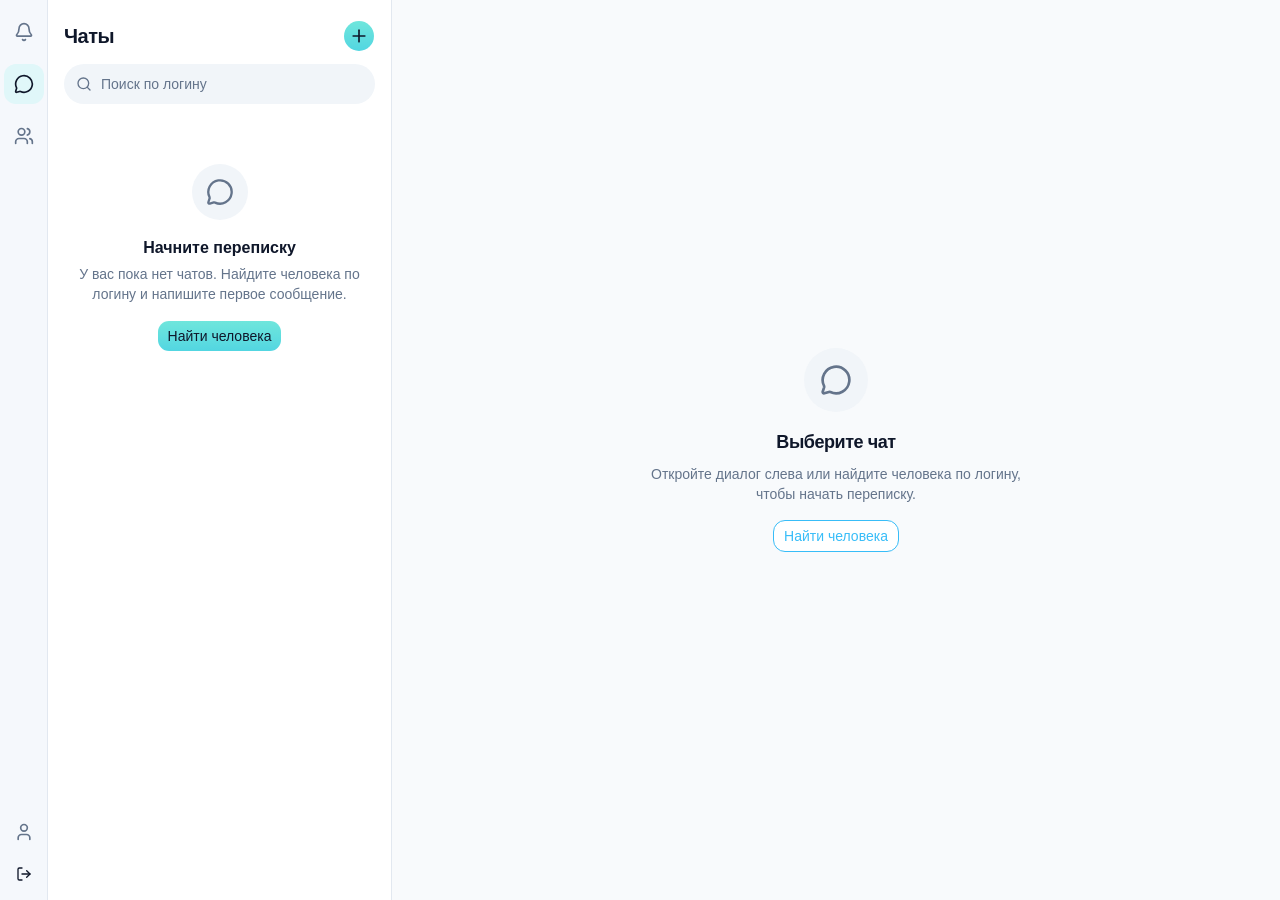
ChatListPage › opens a chat from POST even when refreshing the list fails
This screenshot has width=1280, height=900.
Check: the text "Начните переписку" is shown, box [143,239,296,256]
In the search field labelled "Поиск по логину": point(220, 84) [64,64,375,104], type "char"
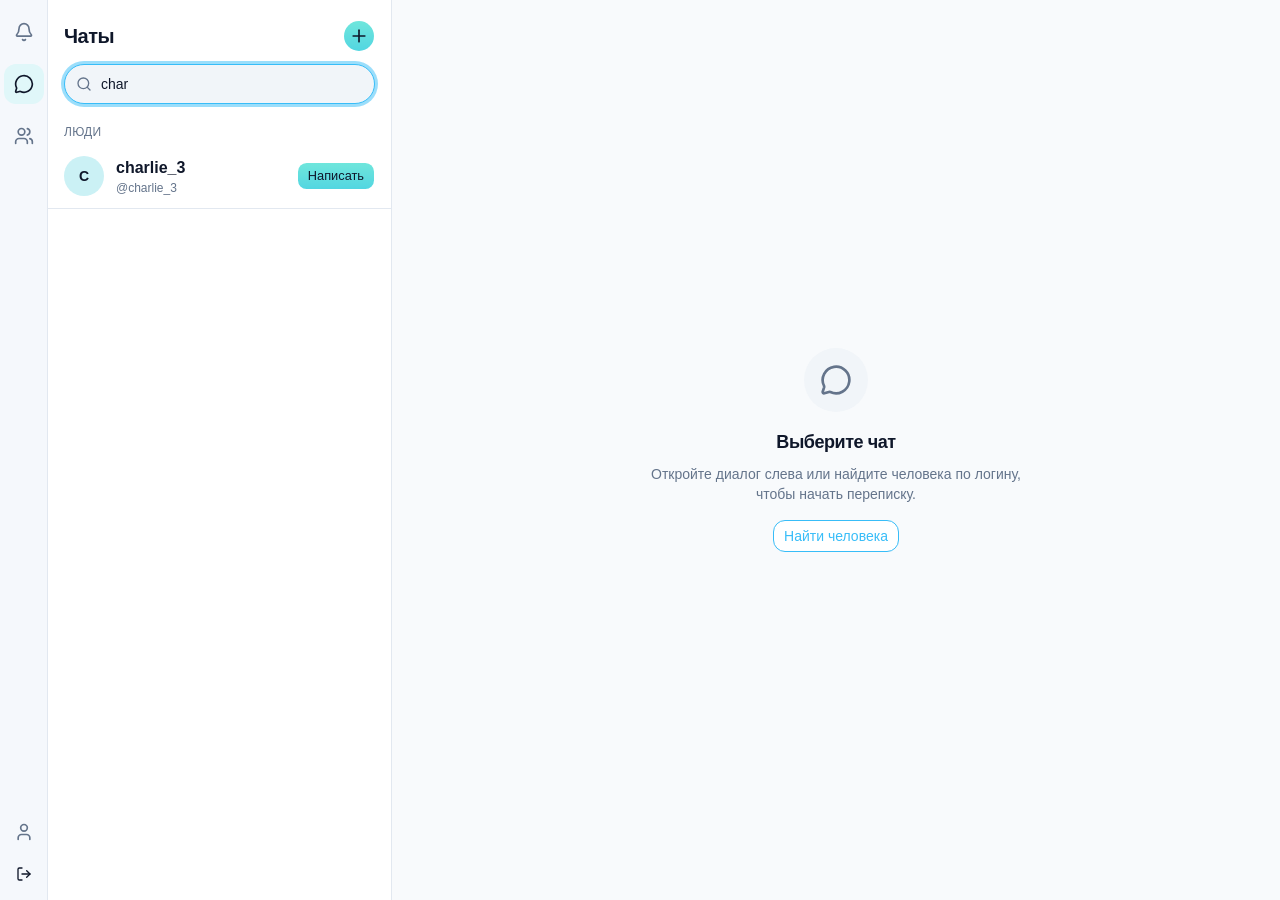
Click the button with aria-label "Написать charlie_3": point(336, 176) [297,162,375,190]
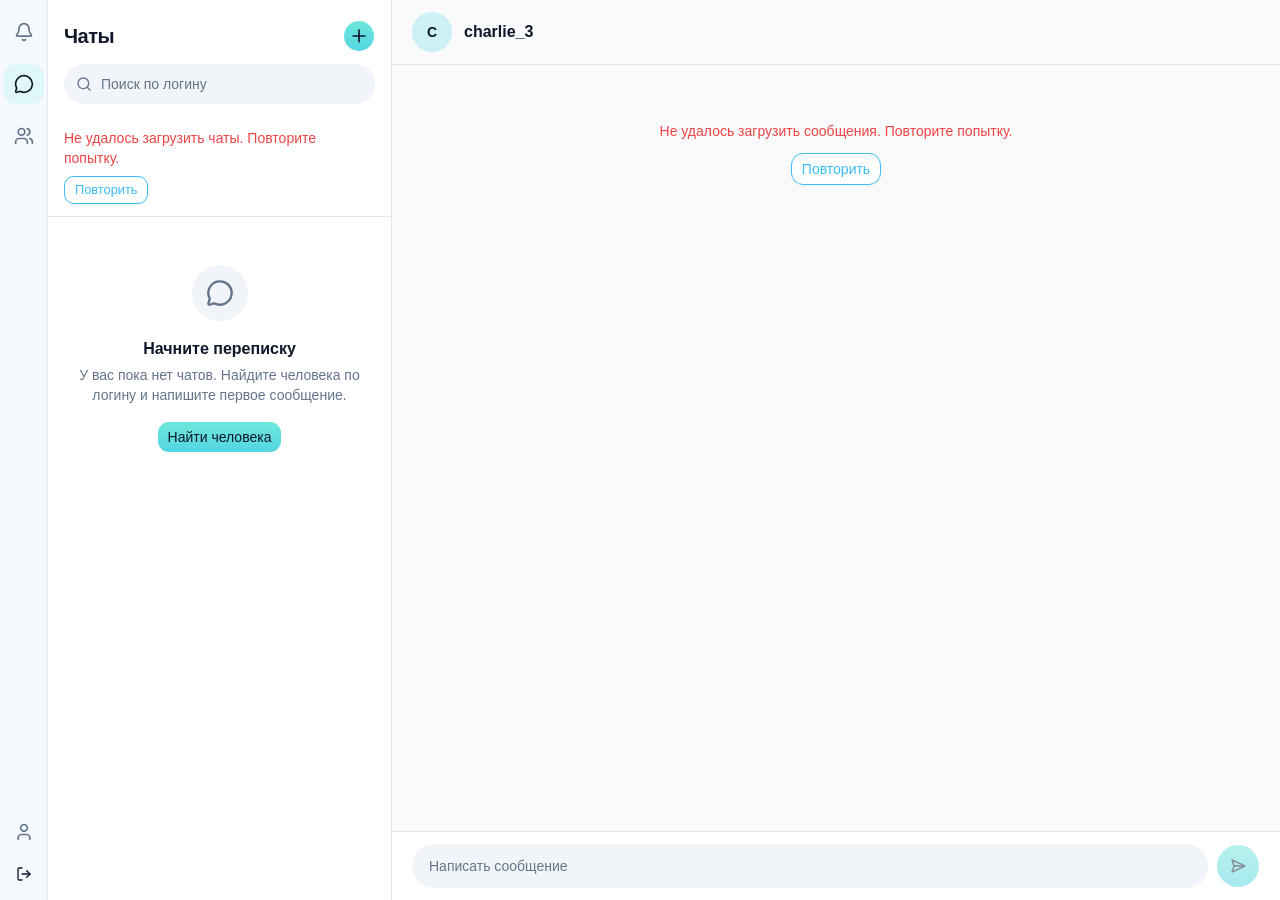
Check: the heading "charlie_3" is shown, box [464,23,533,40]
Clear the search field labelled "Поиск по логину": point(220, 84) [64,64,375,104]
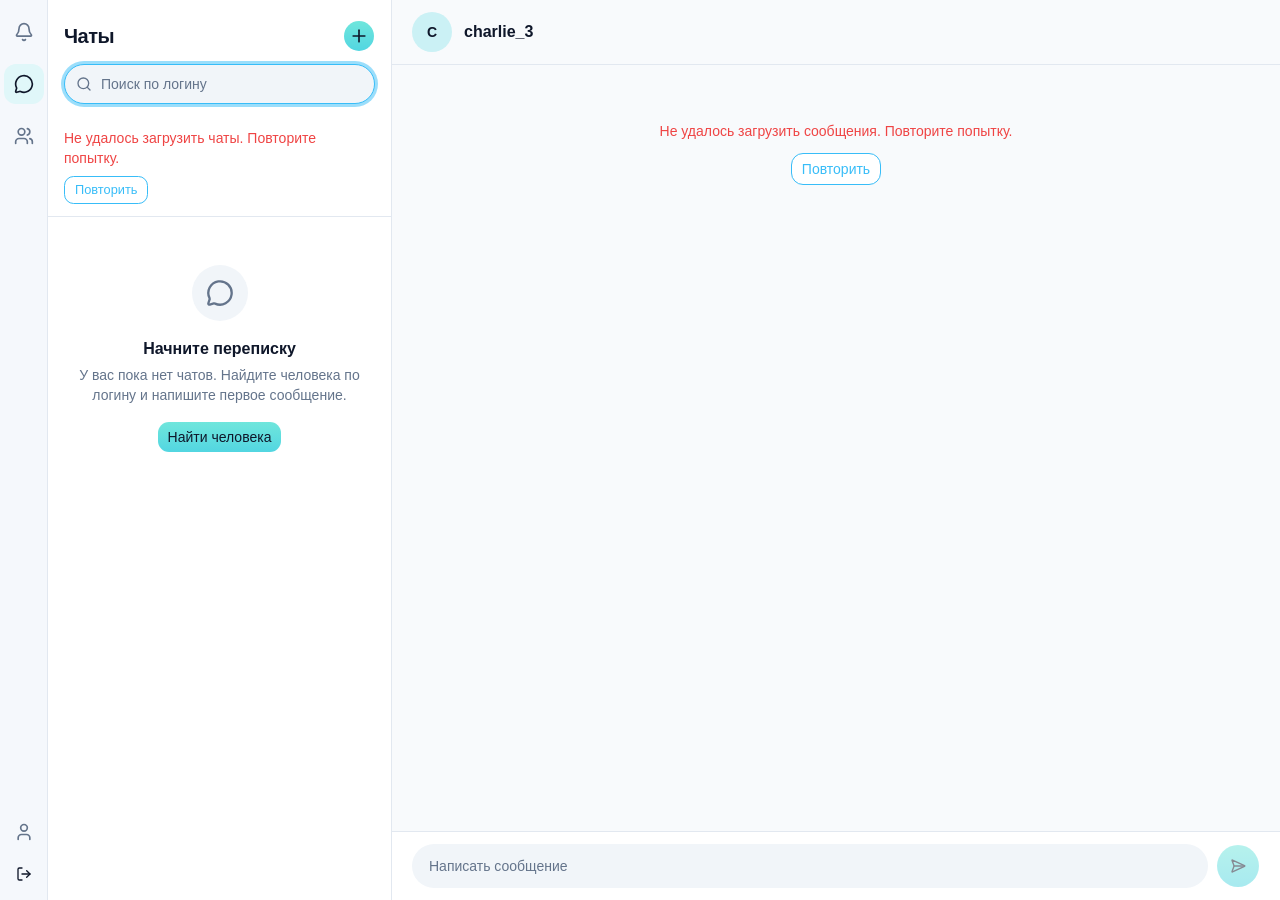
Check: the text "пока нет чатов" is shown, box [79,367,360,403]
Click the 2nd button "Повторить": point(106, 190) [64,176,148,204]
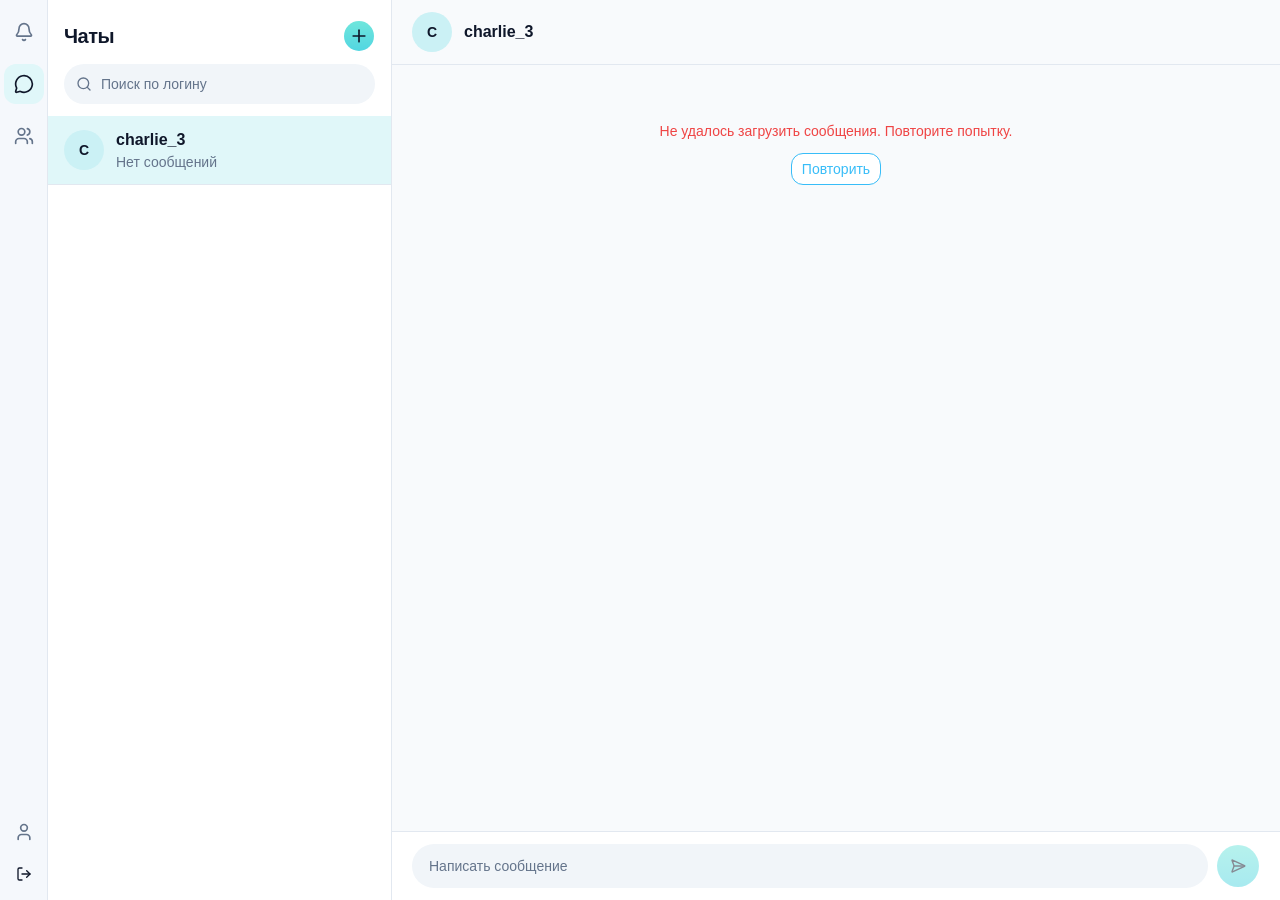
Check: the link "C charlie_3 Нет сообщений" is shown, box [48,116,391,184]
Check: the text "Не удалось загрузить чаты" is gone
